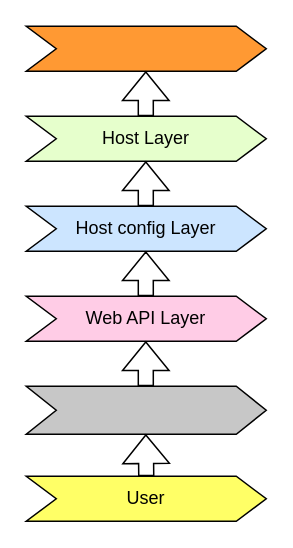
Image size: 293x548. Some labels were removed from this diagram. The shapes that lost their labels are listed below. From the top down, each one's centre as x and y in pixels, then its label:
the point at 145,48: Data Capsule Layer
the point at 145,409: Web Front-end Layer
